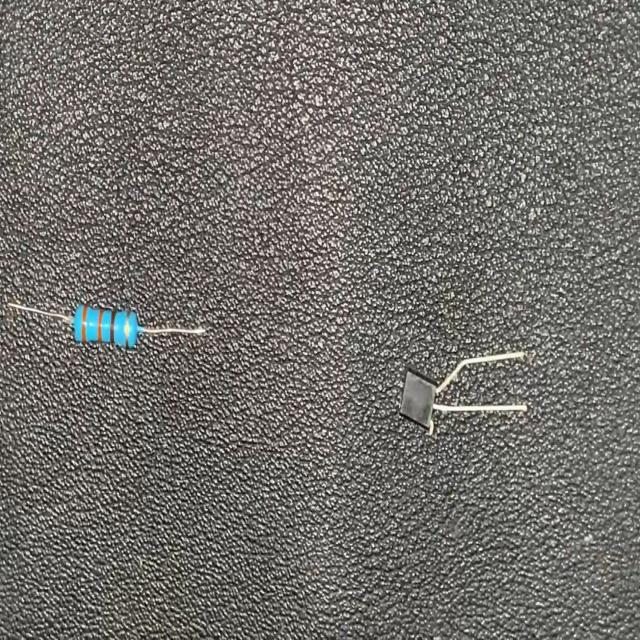missing-leg: (398, 348, 530, 442)
resistor: (5, 295, 208, 350)
